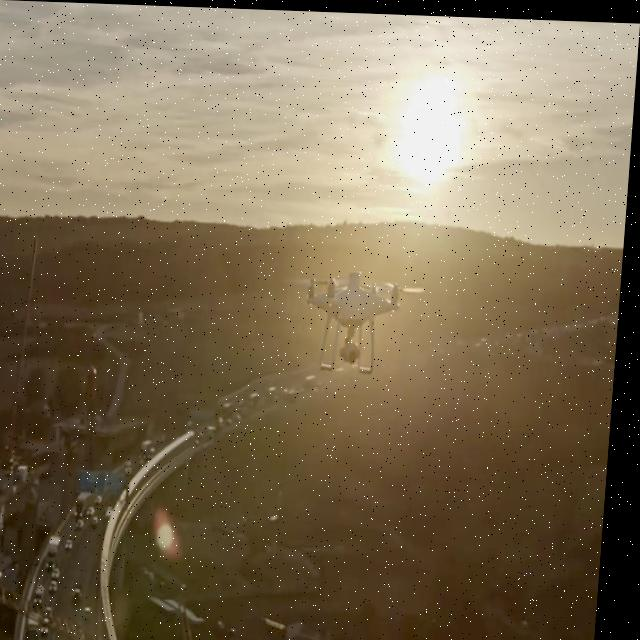drone: (287, 259, 433, 375)
